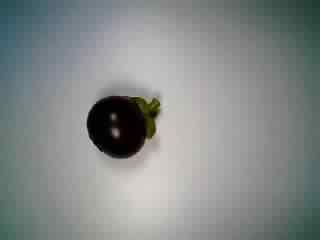mangosteen: (83, 85, 163, 161)
